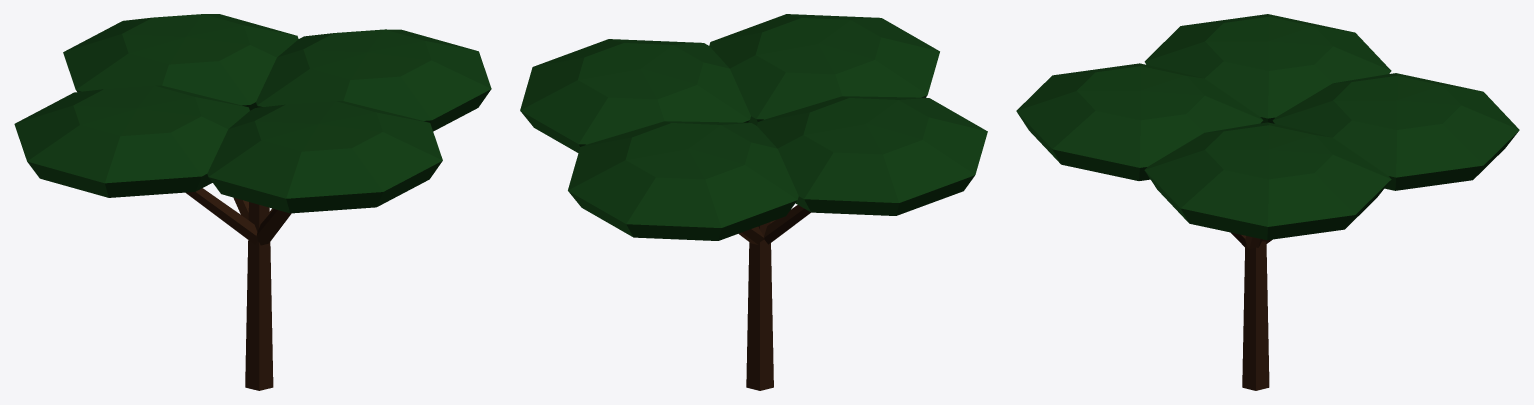
The model's file is AcaciaTree.glb.
The picture shows the model from 3 angles, left to right: view 1: azimuth 30°, elevation 25°; view 2: azimuth 150°, elevation 25°; view 3: azimuth 270°, elevation 25°; orthographic projection. The views are drawn at different scales.
Visible parts, largest first — view 1: AcaciaTree; view 2: AcaciaTree; view 3: AcaciaTree.
Part boxes in pixels (left/top/right/bottom): AcaciaTree: left=14, top=14, right=491, bottom=390; AcaciaTree: left=520, top=14, right=987, bottom=390; AcaciaTree: left=1016, top=14, right=1519, bottom=390.
Bounding box in the file's own units: 5.5 × 3.54 × 5.5.
1 material, 1 textured.
